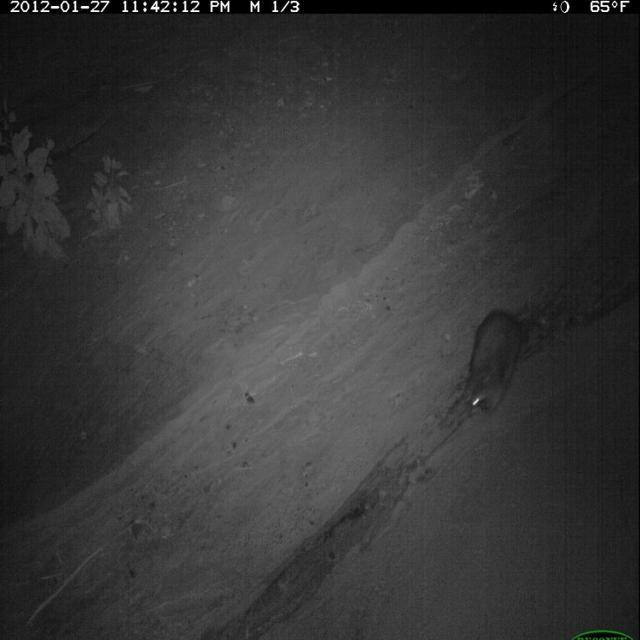raccoon: (457, 302, 544, 429)
